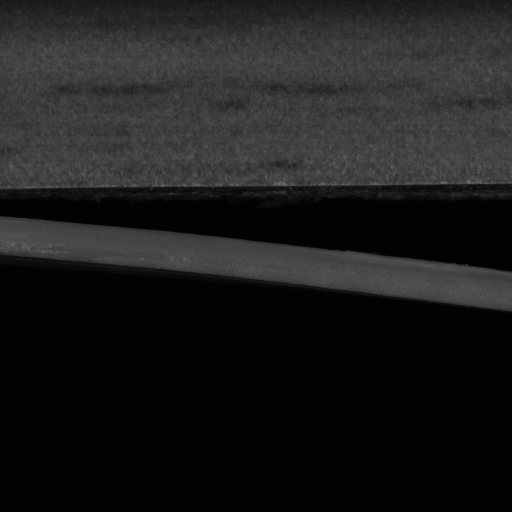kaijiao: (0, 176, 511, 314)
